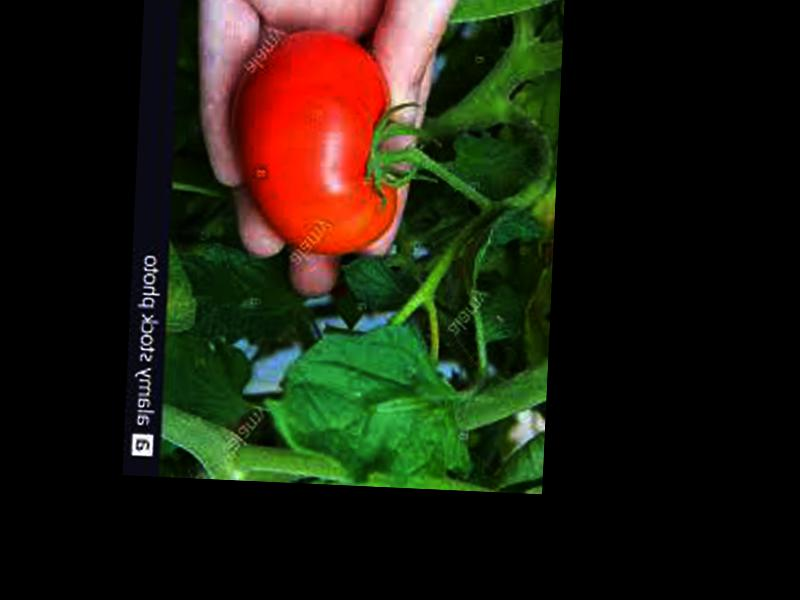Tomato: (231, 25, 404, 257)
